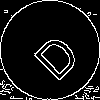D: (25, 25, 83, 83)
